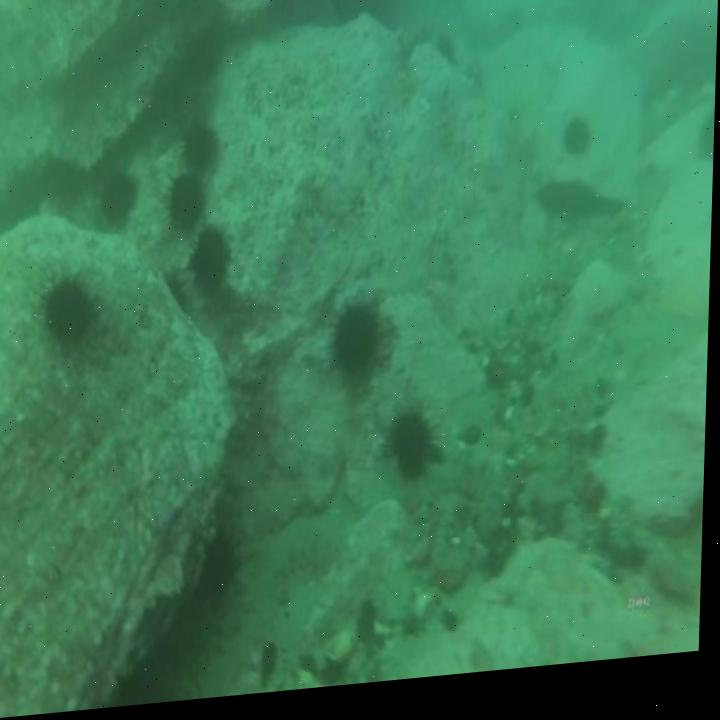echinus: (326, 302, 392, 398), (38, 269, 101, 363), (387, 410, 440, 500), (197, 525, 247, 612), (165, 167, 213, 247), (189, 226, 234, 305), (98, 166, 144, 236), (39, 155, 89, 219), (184, 24, 224, 96), (179, 120, 221, 180), (160, 271, 194, 330), (562, 120, 594, 180), (695, 118, 716, 185), (433, 38, 460, 75)
